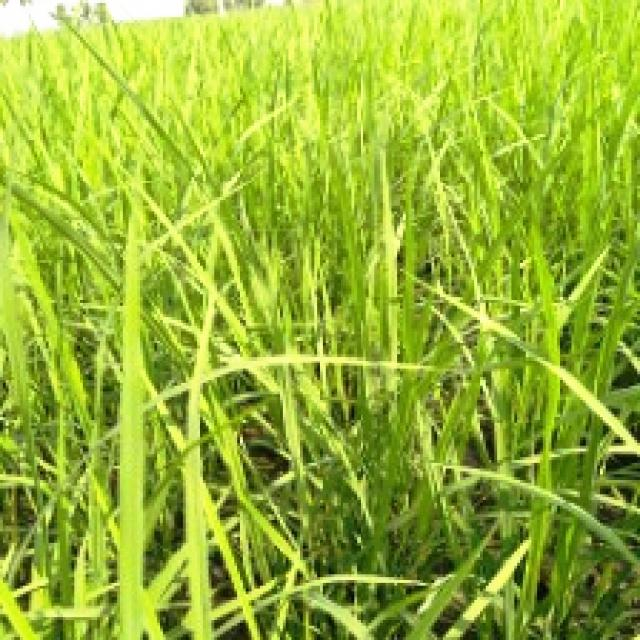health: (0, 32, 637, 640)
